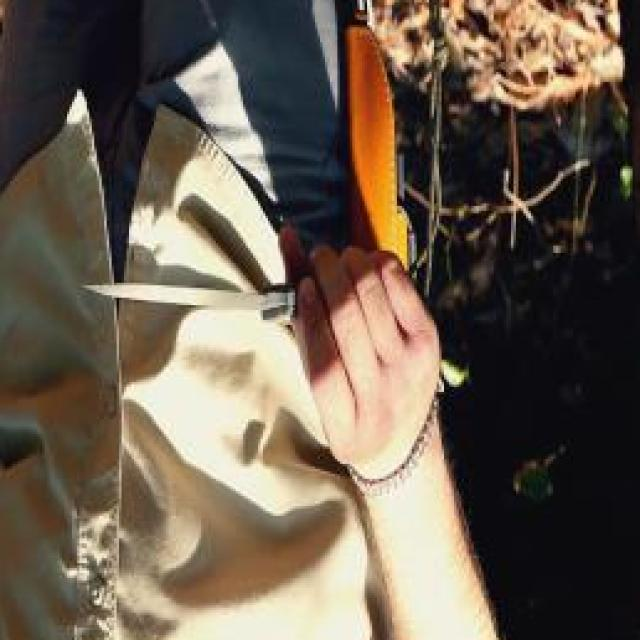knife: (77, 218, 412, 377)
